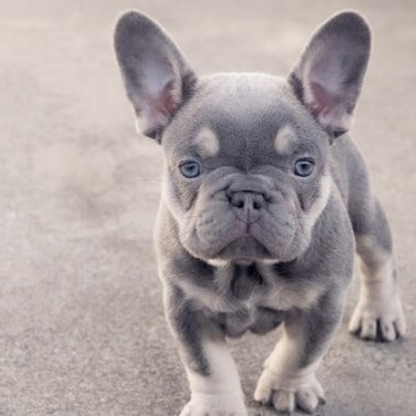bulldog: (109, 6, 411, 416)
